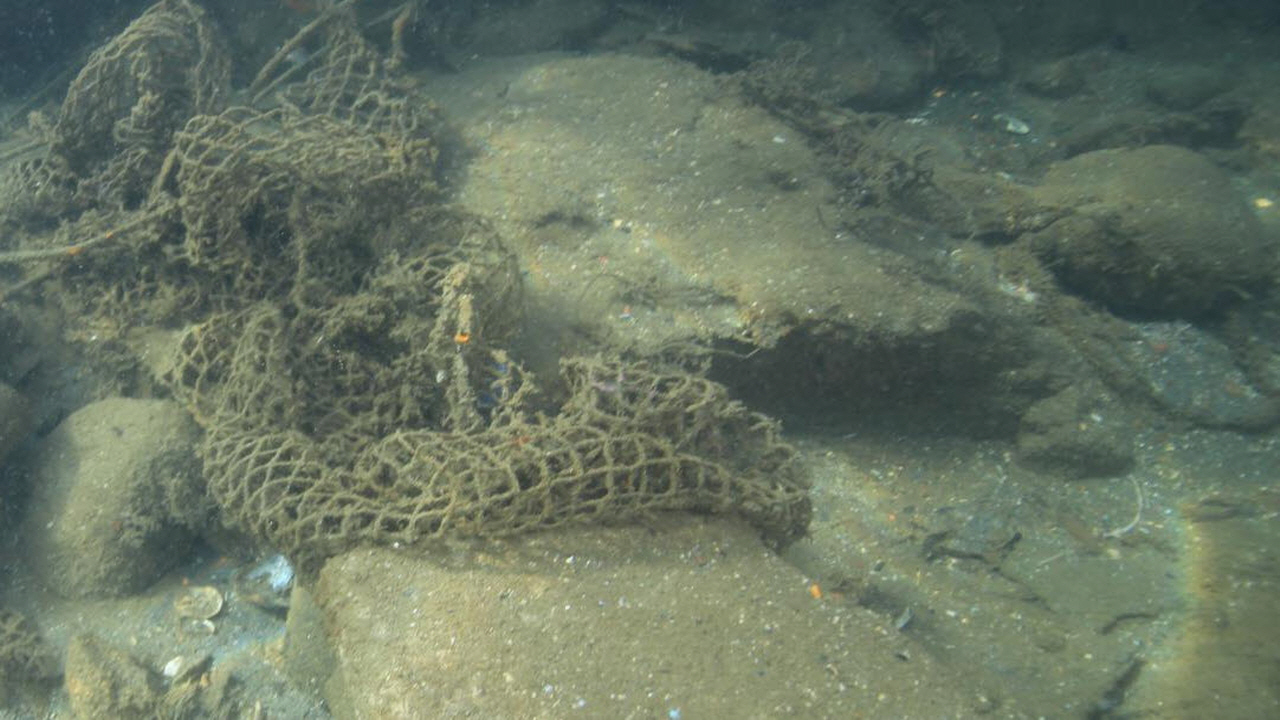fish net: (0, 0, 813, 566)
